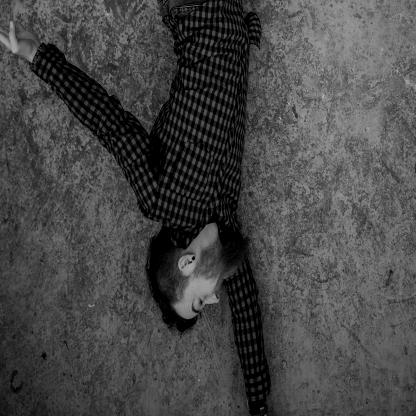dress: (24, 0, 314, 416)
